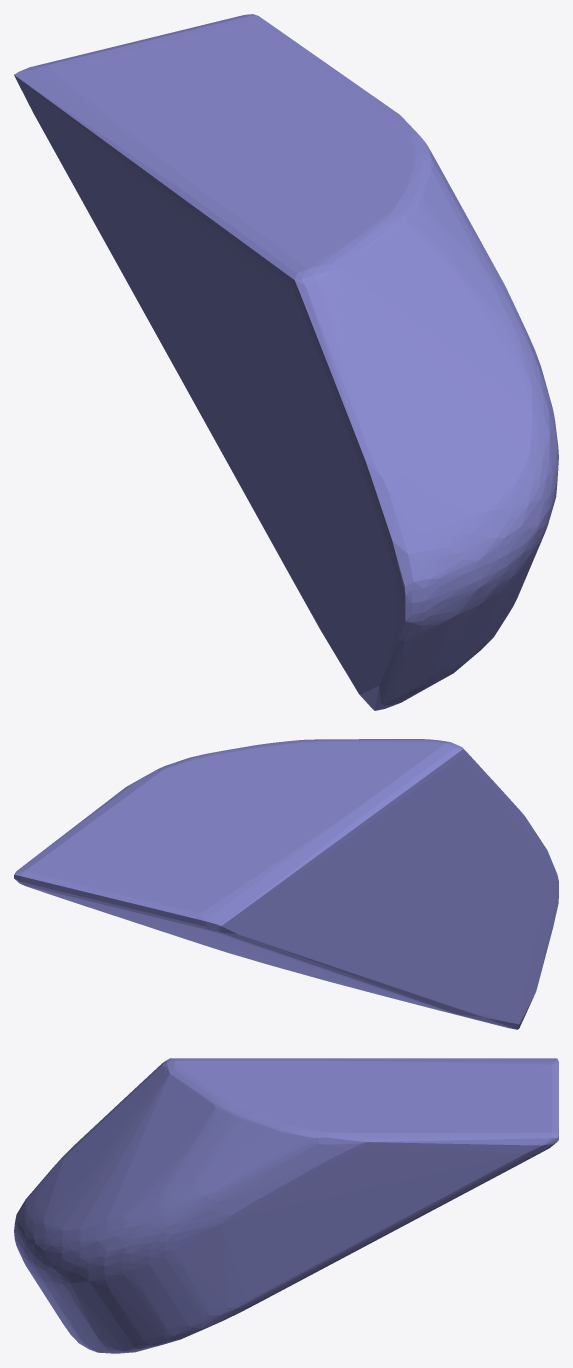
The model's file is left-toe-roll-0_part_12.obj.
3 renders of one model, top to bottom at view 1: azimuth 30°, elevation 25°; view 2: azimuth 150°, elevation 25°; view 3: azimuth 270°, elevation 25°, orthographic. The views are drawn at different scales.
Bounding box in the file's own units: 0.0221 × 0.0326 × 0.0606.
